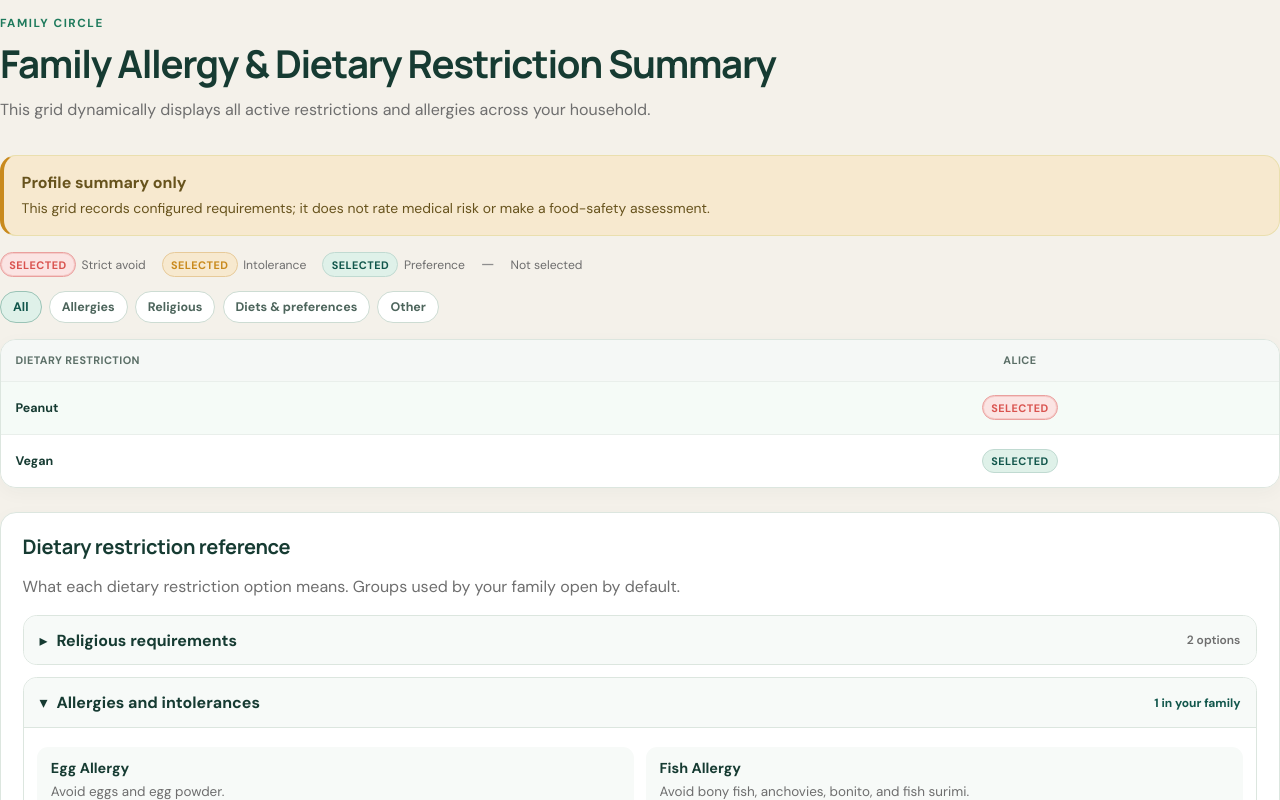
Scenario: FamilyRestrictionSummaryPage › opens household reference groups and marks in-family options
Expected: the table is shown, 1,340 -> 1279,487
Expected: the text "Requires Halal-certified ingredients and no pork or alcohol." is not shown
Click the button "▸ Religious requirements 2 options" at (147, 640), box 24,616 -> 1256,664
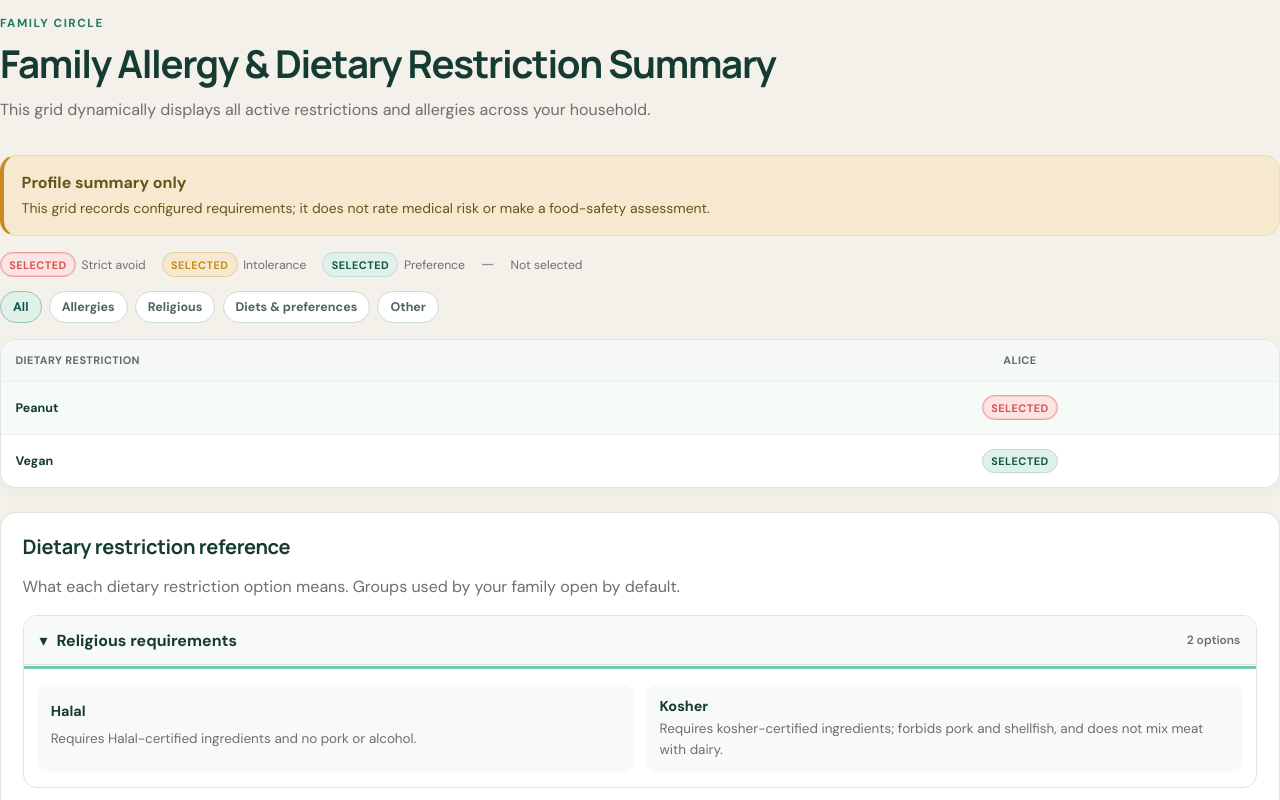
Now the button "▾ Religious requirements 2 options" is expanded, box 24,616 -> 1256,664
Now the text "Requires Halal-certified ingredients and no pork or alcohol." is shown, box 51,730 -> 416,748
